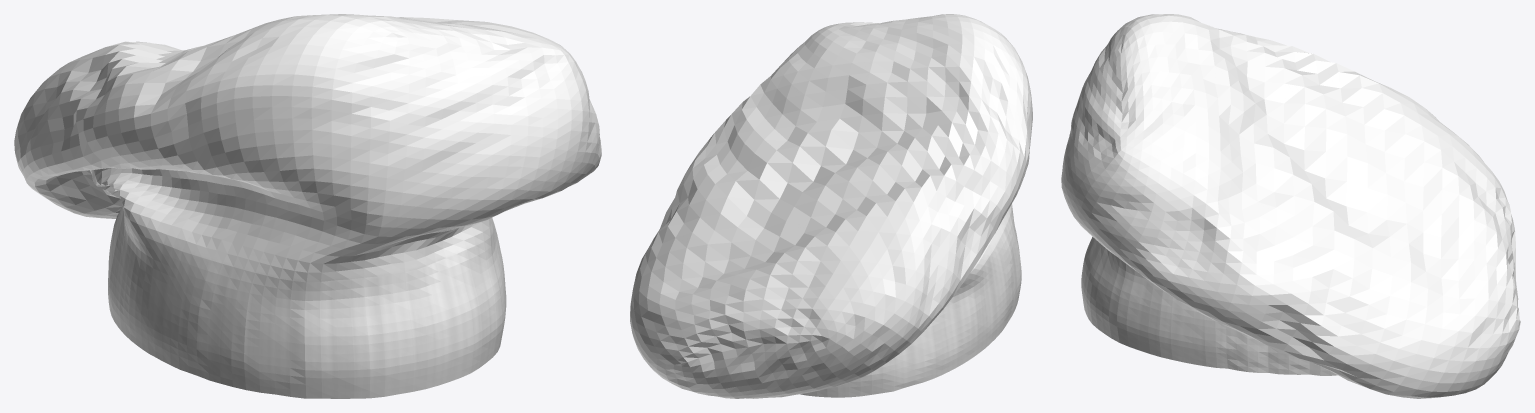
The model's file is mhw_elvs_unisex_chef_hat_1.glb.
3 renders of one model, left to right at view 1: azimuth 30°, elevation 25°; view 2: azimuth 150°, elevation 25°; view 3: azimuth 270°, elevation 25°, orthographic. The views are drawn at different scales.
Parts seen in each view (by area): view 1: mhw_elvs_unisex_chef_hat_1; view 2: mhw_elvs_unisex_chef_hat_1; view 3: mhw_elvs_unisex_chef_hat_1.
Part boxes in pixels (bbox=[...]): mhw_elvs_unisex_chef_hat_1: bbox=[14, 14, 601, 398]; mhw_elvs_unisex_chef_hat_1: bbox=[630, 14, 1032, 398]; mhw_elvs_unisex_chef_hat_1: bbox=[1061, 14, 1520, 398].
Size of the model in its own units: 0.2452 by 0.1959 by 0.2797.
Materials: 1 (1 with a texture image).
